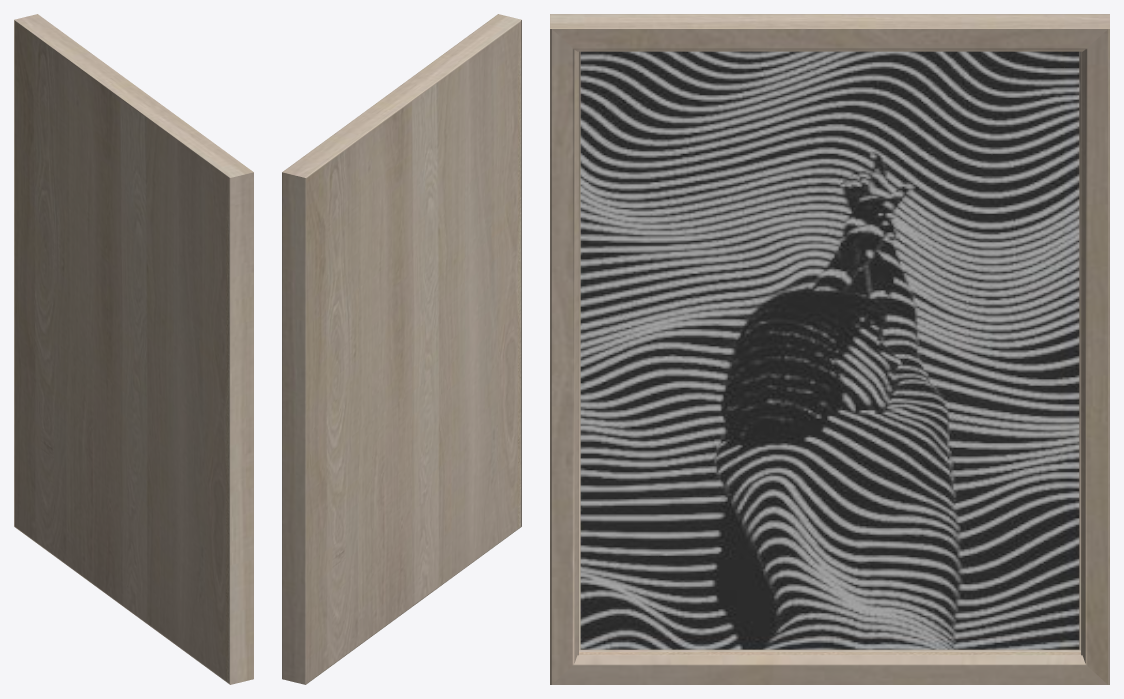
The model's file is WallPainting0020.obj.
3 views of the same model, side by side, from view 1: azimuth 30°, elevation 25°; view 2: azimuth 150°, elevation 25°; view 3: azimuth 270°, elevation 25° (orthographic). The views are drawn at different scales.
Bounding box in the file's own units: 0.022 × 0.45 × 0.348.
1 material, 1 textured.
